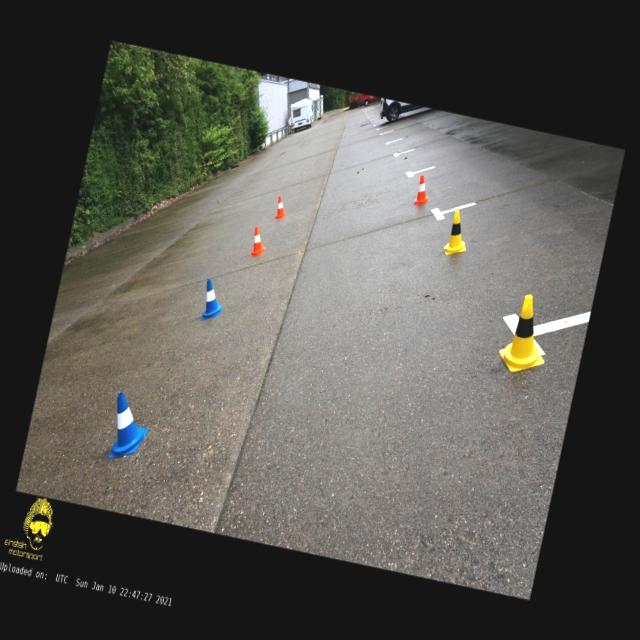blue_cone: (103, 391, 154, 465), (198, 277, 228, 324)
orange_cone: (412, 174, 433, 208), (248, 226, 268, 258), (273, 195, 289, 220)
yellow_cone: (494, 290, 556, 378), (441, 209, 473, 259)
